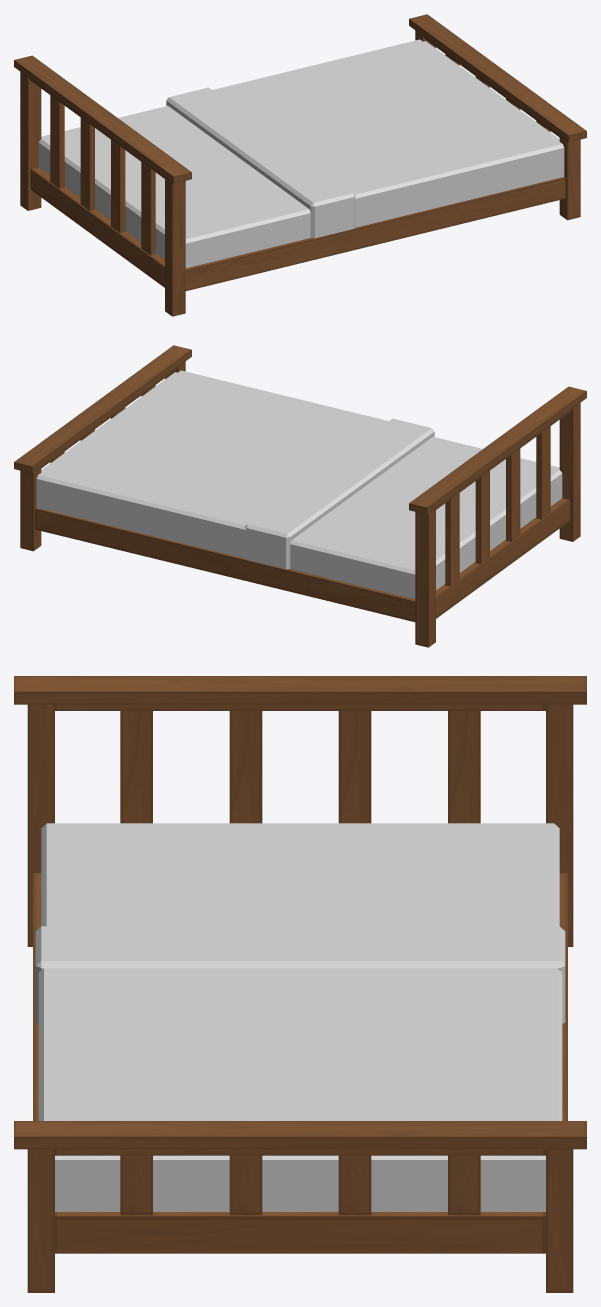
Rendered from Kasur'.fbx.
3 renders of one model, top to bottom at view 1: azimuth 30°, elevation 25°; view 2: azimuth 150°, elevation 25°; view 3: azimuth 270°, elevation 25°, orthographic. The views are drawn at different scales.
Parts seen in each view (by area): view 1: Cube.011, Cube.012; view 2: Cube.011, Cube.012; view 3: Cube.011, Cube.012.
Part boxes in pixels (left/top/right/bottom): Cube.011: left=38, top=39, right=564, bottom=268; Cube.012: left=14, top=14, right=586, bottom=316; Cube.011: left=36, top=370, right=562, bottom=599; Cube.012: left=14, top=345, right=586, bottom=647; Cube.011: left=35, top=823, right=565, bottom=1211; Cube.012: left=14, top=676, right=586, bottom=1292.
Size of the model in its own units: 314 by 104 by 210.
1 material, 1 textured.
